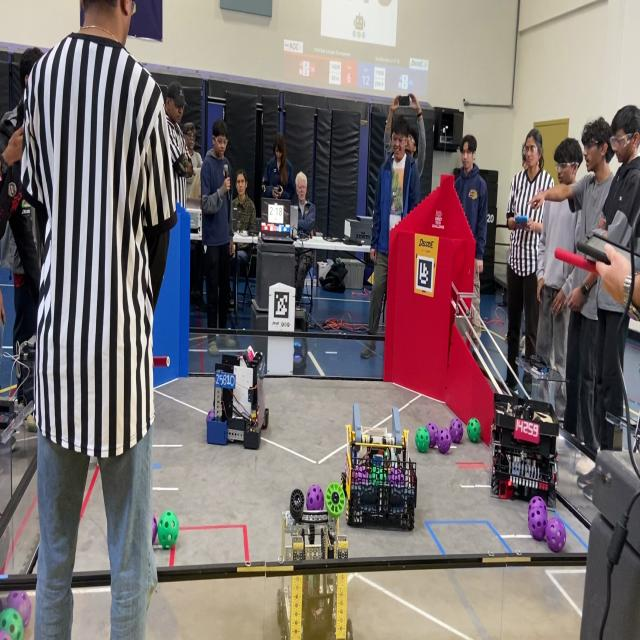artifact_green: (4, 591, 31, 629), (158, 511, 179, 549), (0, 608, 23, 639), (326, 483, 345, 519), (290, 489, 305, 522), (415, 427, 429, 452), (467, 418, 480, 443), (370, 467, 387, 486), (0, 630, 11, 639)
artifact_purple: (4, 591, 31, 628), (546, 517, 566, 552), (528, 507, 547, 541), (306, 485, 324, 510), (450, 418, 464, 443), (438, 428, 451, 453), (388, 467, 404, 486), (353, 465, 368, 484), (529, 496, 546, 512), (427, 423, 438, 447), (152, 515, 157, 544), (0, 631, 11, 639)
